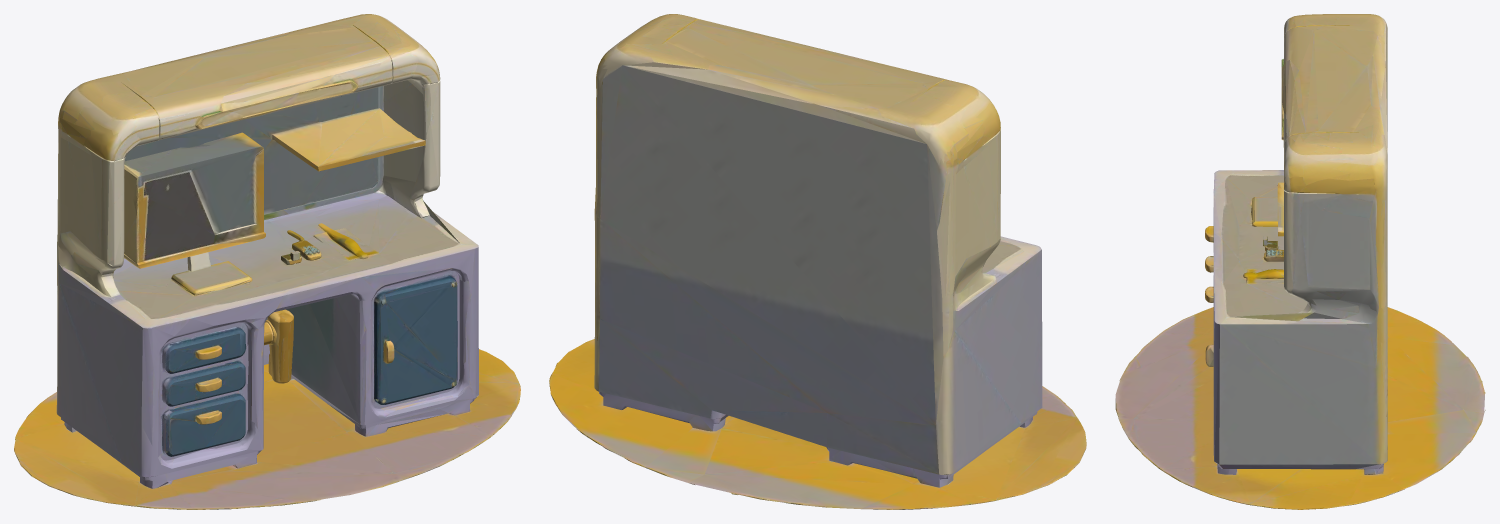
Rendered from research-workstation.gltf.
The picture shows the model from 3 angles, left to right: view 1: azimuth 30°, elevation 25°; view 2: azimuth 150°, elevation 25°; view 3: azimuth 270°, elevation 25°; orthographic projection. The views are drawn at different scales.
Size of the model in its own units: 1.9 by 1.33 by 1.38.
Materials: 1 (1 with a texture image).
